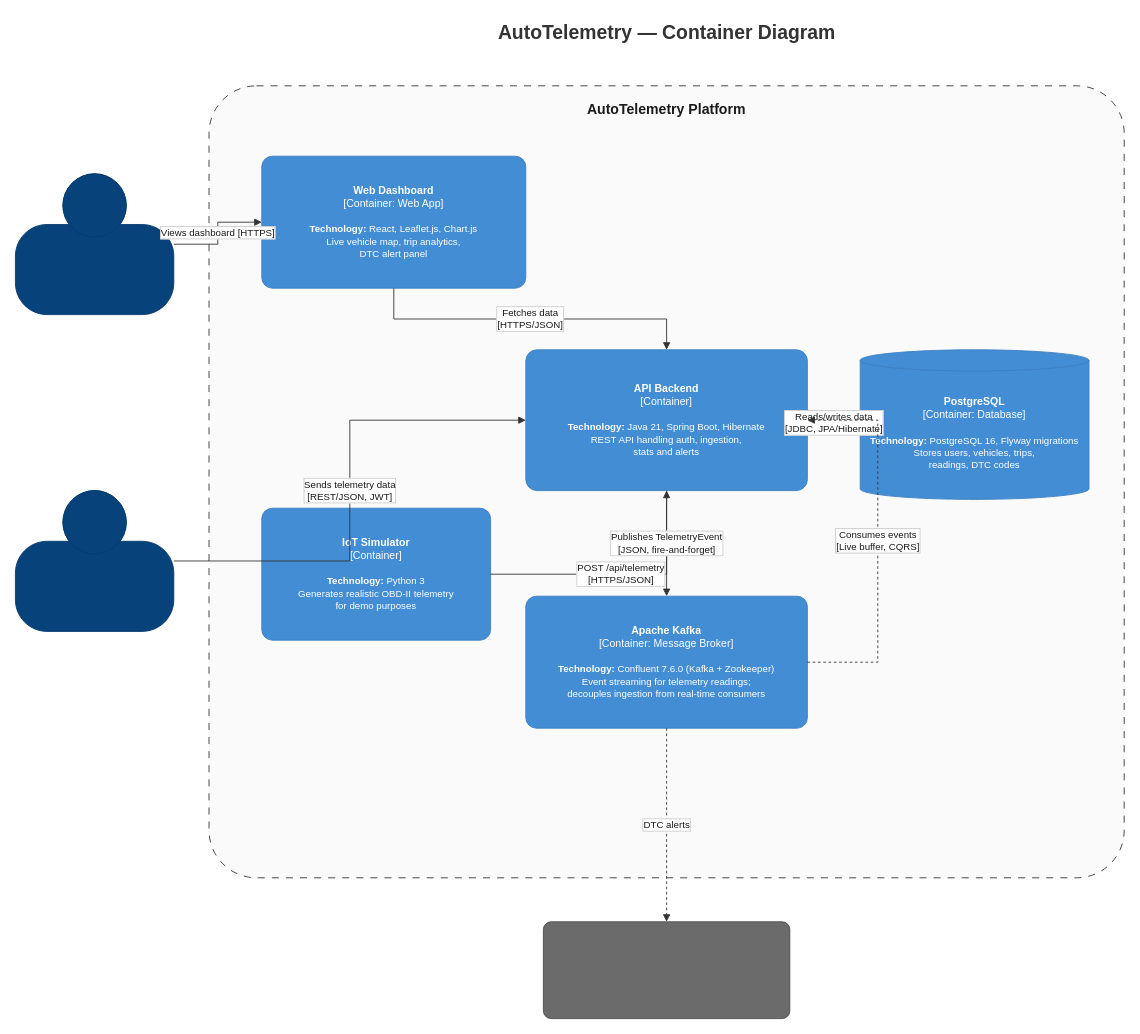
Image size: 1140x1034. Some labels were removed from this diagram. The centre of each missing label's shape, as x and y in pixels:
Driver [Person]: (x=94, y=560)
Fleet Manager [Person]: (x=94, y=244)
Notification Service [External System] Email/push alerts (MVP: in-process): (x=666, y=970)
